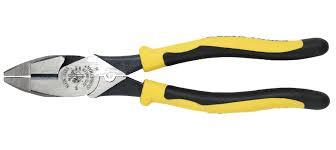pliers: (2, 34, 329, 113)
